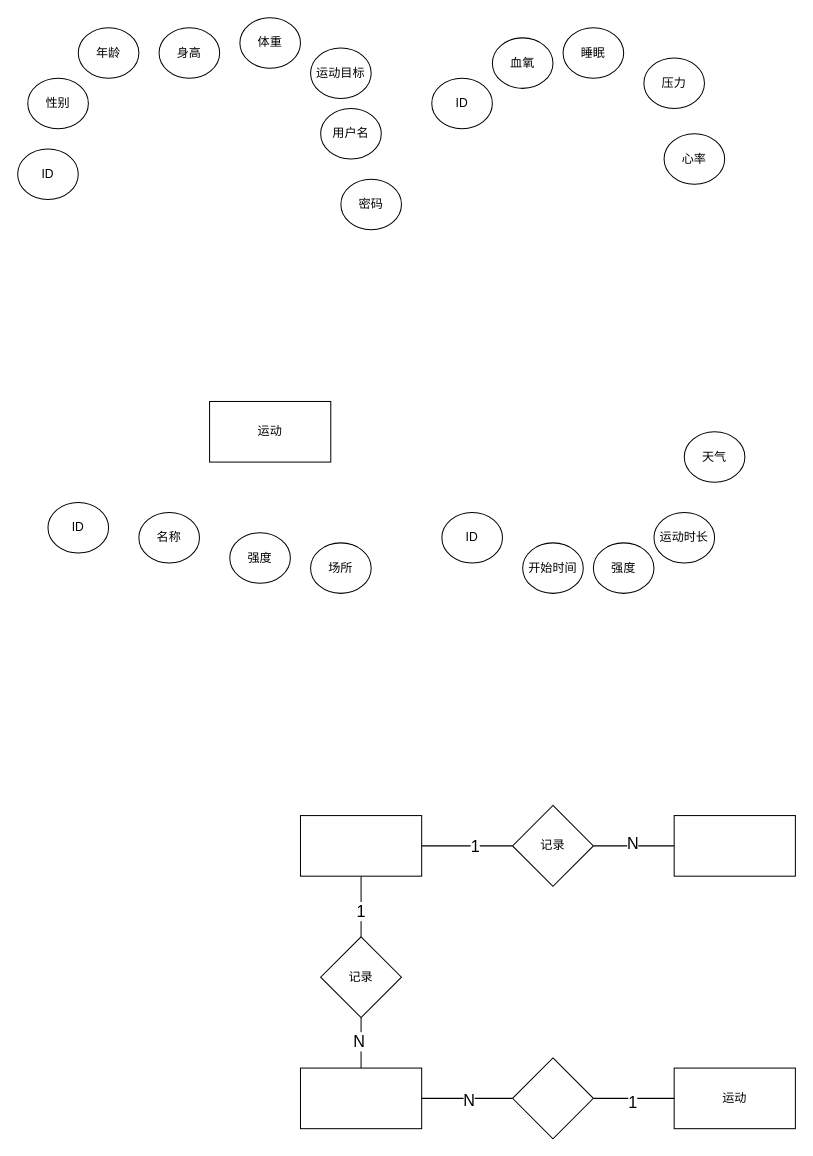
The diagram is 813 pixels wide and 1156 high, and some of its shapes have lost their labels. Each missing label, with the centre of its shape:
健康状态: point (734, 845)
关联: point (552, 1098)
用户: point (360, 845)
运动记录: point (360, 1098)
